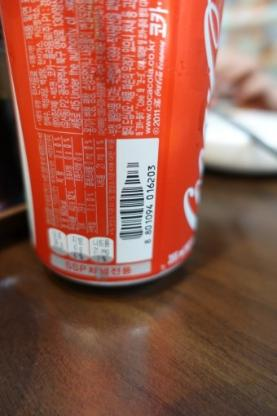Can: (1, 0, 228, 288)
